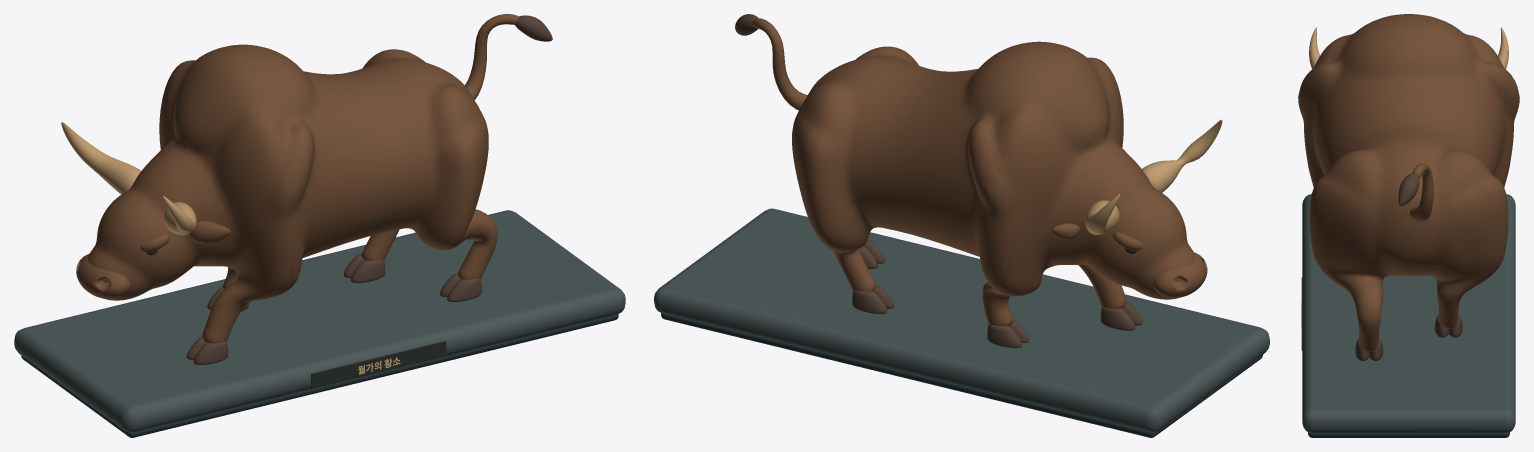
File: bull.glb
The picture shows the model from 3 angles, left to right: view 1: azimuth 30°, elevation 25°; view 2: azimuth 150°, elevation 25°; view 3: azimuth 270°, elevation 25°; orthographic projection. The views are drawn at different scales.
Visible parts, largest first — view 1: Bull / cast body, Plinth / stone, Plinth / shadow foot, Foundry plaque, Crescent horn.001, Broad muzzle, Raised whip tail, Crescent horn, Swept ear, Tail brush, Cloven hoof.002, Cloven hoof.006 (+1 smaller); view 2: Bull / cast body, Plinth / stone, Plinth / shadow foot, Crescent horn, Broad muzzle, Raised whip tail, Crescent horn.001, Cloven hoof.001, Cloven hoof.007, Cloven hoof.005; view 3: Bull / cast body, Plinth / stone, Plinth / shadow foot, Raised whip tail, Tail brush, Crescent horn.001, Crescent horn.
Boxes of the visible parts, <box> form: Bull / cast body: <box>88,44,497,343</box>; Plinth / stone: <box>14,210,625,432</box>; Plinth / shadow foot: <box>21,314,618,437</box>; Foundry plaque: <box>311,341,446,388</box>; Crescent horn.001: <box>61,122,140,194</box>; Broad muzzle: <box>76,254,130,299</box>; Raised whip tail: <box>465,14,518,100</box>; Crescent horn: <box>163,196,196,235</box>; Swept ear: <box>189,221,230,244</box>; Tail brush: <box>515,15,552,41</box>; Cloven hoof.002: <box>447,278,481,301</box>; Cloven hoof.006: <box>350,259,385,282</box>; Bull / cast body: <box>792,41,1195,326</box>; Plinth / stone: <box>654,208,1269,432</box>; Plinth / shadow foot: <box>661,313,1262,437</box>; Crescent horn: <box>1142,119,1222,192</box>; Broad muzzle: <box>1153,252,1207,298</box>; Raised whip tail: <box>752,18,807,110</box>; Crescent horn.001: <box>1085,194,1119,234</box>; Cloven hoof.001: <box>1100,306,1135,330</box>; Cloven hoof.007: <box>852,290,886,313</box>; Cloven hoof.005: <box>987,324,1022,348</box>; Bull / cast body: <box>1298,14,1519,352</box>; Plinth / stone: <box>1302,194,1515,433</box>; Plinth / shadow foot: <box>1308,432,1509,437</box>; Raised whip tail: <box>1410,163,1433,221</box>; Tail brush: <box>1398,173,1419,205</box>; Crescent horn.001: <box>1498,27,1508,68</box>; Crescent horn: <box>1309,27,1319,68</box>.
Bounding box in the file's own units: 5.06 × 2.93 × 2.12.
